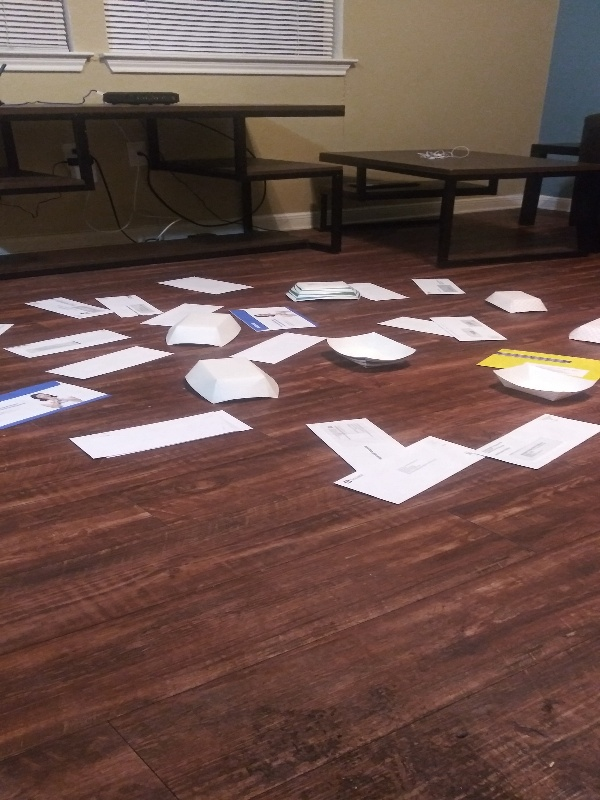plate: (180, 354, 283, 408), (489, 360, 599, 408), (319, 330, 420, 374), (162, 307, 244, 350), (284, 278, 363, 306), (483, 286, 552, 316), (563, 313, 600, 352)
